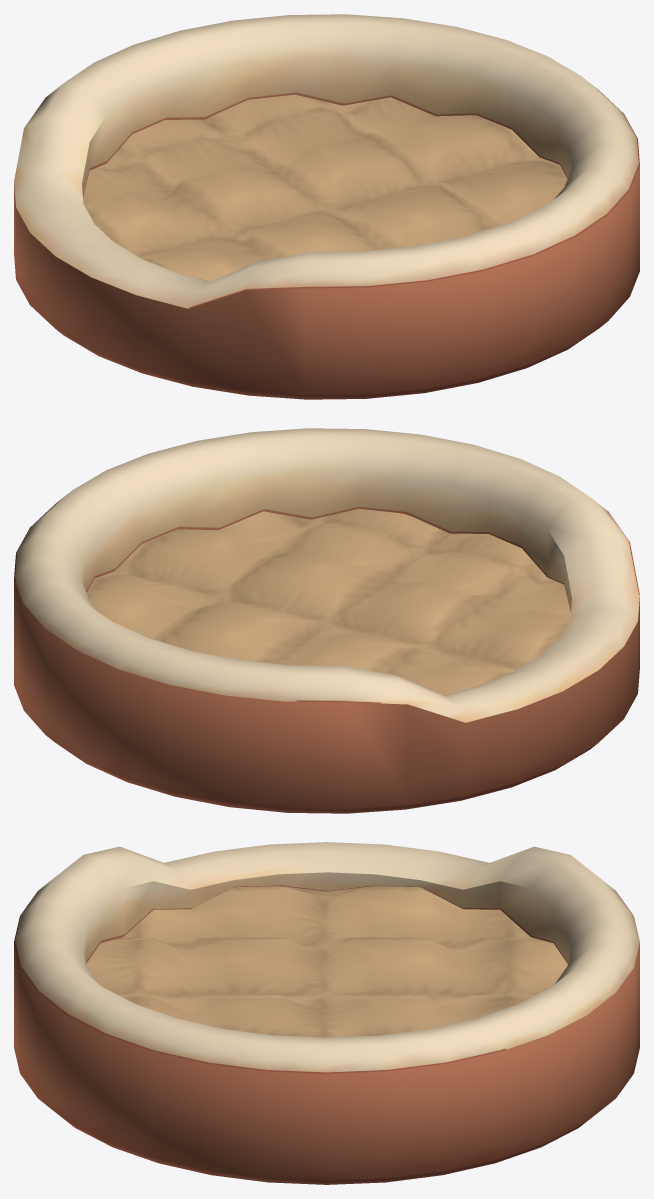
Rendered from Dogbed.fbx.
The picture shows the model from 3 angles, top to bottom: view 1: azimuth 30°, elevation 25°; view 2: azimuth 150°, elevation 25°; view 3: azimuth 270°, elevation 25°; orthographic projection.
Visible parts, largest first — view 1: Cylinder; view 2: Cylinder; view 3: Cylinder.
Part boxes in pixels (<box>): Cylinder: <box>14,14,639,399</box>; Cylinder: <box>14,428,639,813</box>; Cylinder: <box>14,842,639,1184</box>.
Size of the model in its own units: 164 by 38.53 by 164.
